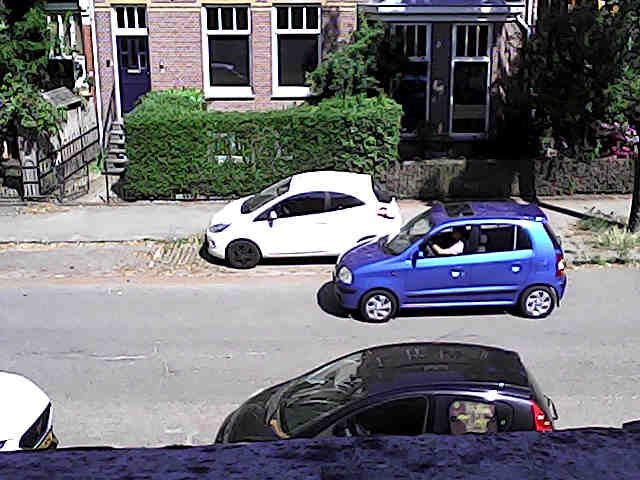suv: (216, 342, 556, 442), (334, 200, 566, 321), (205, 171, 401, 268), (0, 371, 57, 451)
